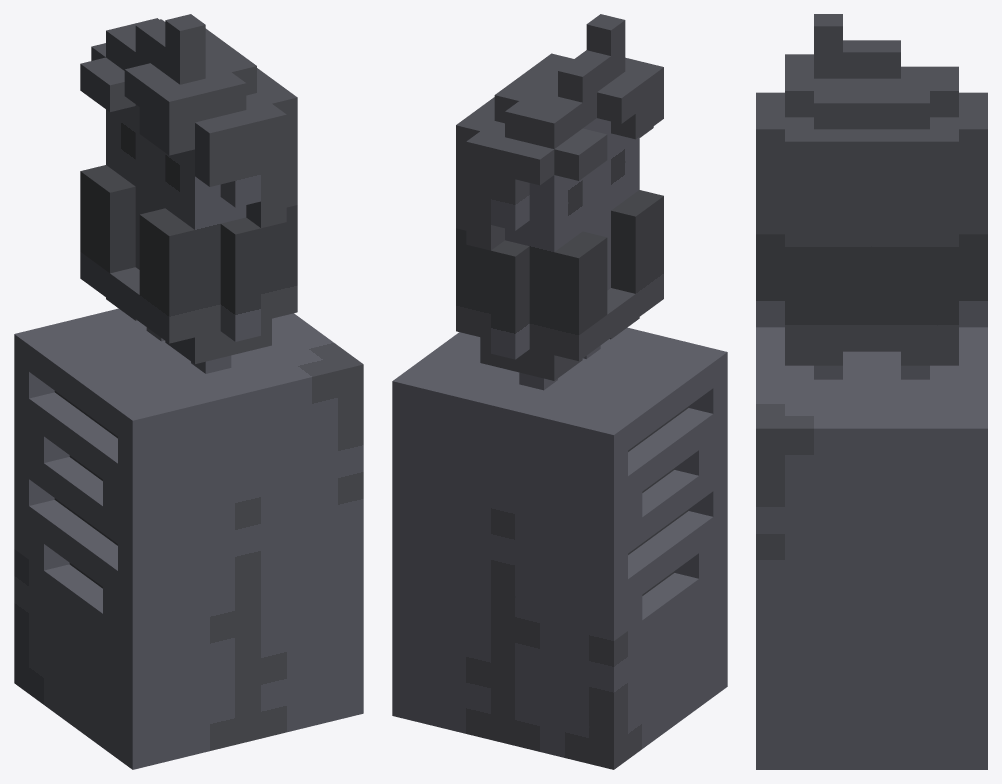
File: parkstatue.obj
3 views of the same model, side by side, from view 1: azimuth 30°, elevation 25°; view 2: azimuth 150°, elevation 25°; view 3: azimuth 270°, elevation 25° (orthographic). The views are drawn at different scales.
Parts seen in each view (by area): view 1: Box_71; view 2: Box_71; view 3: Box_71.
Boxes of the visible parts, left/top/right/bottom form: Box_71: left=14, top=14, right=363, bottom=769; Box_71: left=392, top=14, right=727, bottom=769; Box_71: left=756, top=14, right=987, bottom=769.
Size of the model in its own units: 9 by 26 by 8.
1 material, 1 textured.
